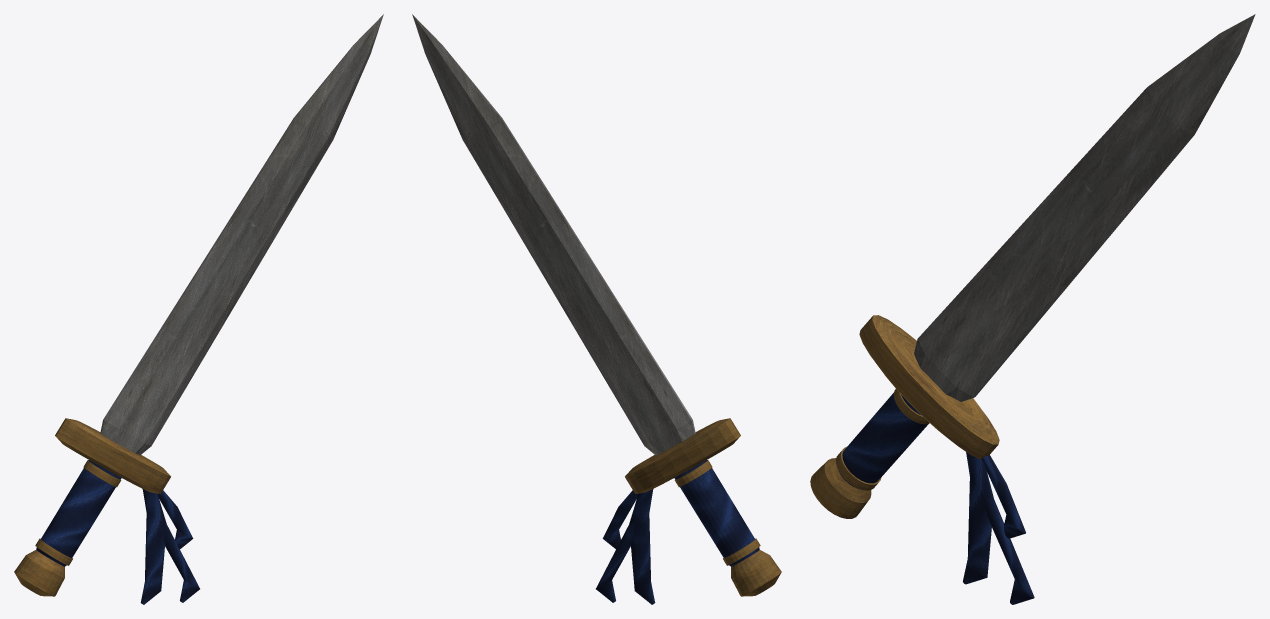
File: sword.obj
The picture shows the model from 3 angles, left to right: view 1: azimuth 30°, elevation 25°; view 2: azimuth 150°, elevation 25°; view 3: azimuth 330°, elevation 25°; orthographic projection. The views are drawn at different scales.
Visible parts, largest first — view 1: blade, guard, grip, blue_tassel0, pommel, blue_tassel1, blue_tassel2; view 2: blade, guard, grip, blue_tassel0, pommel, blue_tassel1, blue_tassel2; view 3: blade, guard, grip, blue_tassel0, pommel, blue_tassel1, blue_tassel2.
Part boxes in pixels (x1,y1,x2,y2): blade: [100, 14, 383, 455]; guard: [55, 418, 170, 493]; grip: [36, 460, 121, 566]; blue_tassel0: [140, 489, 166, 604]; pommel: [14, 550, 64, 596]; blue_tassel1: [159, 520, 199, 602]; blue_tassel2: [157, 490, 193, 549]; blade: [412, 14, 695, 455]; guard: [625, 418, 740, 493]; grip: [674, 460, 759, 566]; blue_tassel0: [629, 489, 655, 604]; pommel: [731, 550, 781, 596]; blue_tassel1: [596, 520, 636, 602]; blue_tassel2: [602, 490, 638, 549]; blade: [914, 14, 1255, 401]; guard: [859, 315, 999, 459]; grip: [839, 392, 928, 488]; blue_tassel0: [963, 452, 994, 584]; pommel: [810, 458, 871, 518]; blue_tassel1: [980, 491, 1034, 604]; blue_tassel2: [981, 455, 1025, 538].
Bounding box in the file's own units: 61.86 × 87 × 6.39.
3 materials, 3 textured.
